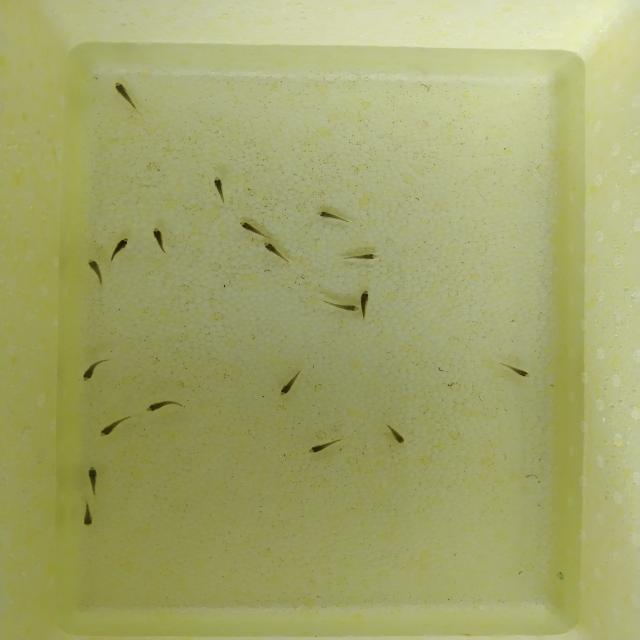fingerling: (94, 418, 128, 442), (276, 369, 304, 397), (202, 175, 234, 199), (85, 462, 104, 498), (109, 84, 140, 106), (78, 355, 100, 386), (150, 227, 172, 257), (312, 207, 348, 225), (383, 423, 412, 445), (84, 256, 110, 280), (497, 362, 532, 378), (110, 235, 136, 256), (342, 252, 380, 266), (236, 218, 266, 235), (76, 504, 96, 528), (262, 242, 288, 260), (146, 400, 192, 410), (361, 289, 374, 318), (309, 442, 339, 452), (340, 300, 358, 316)
